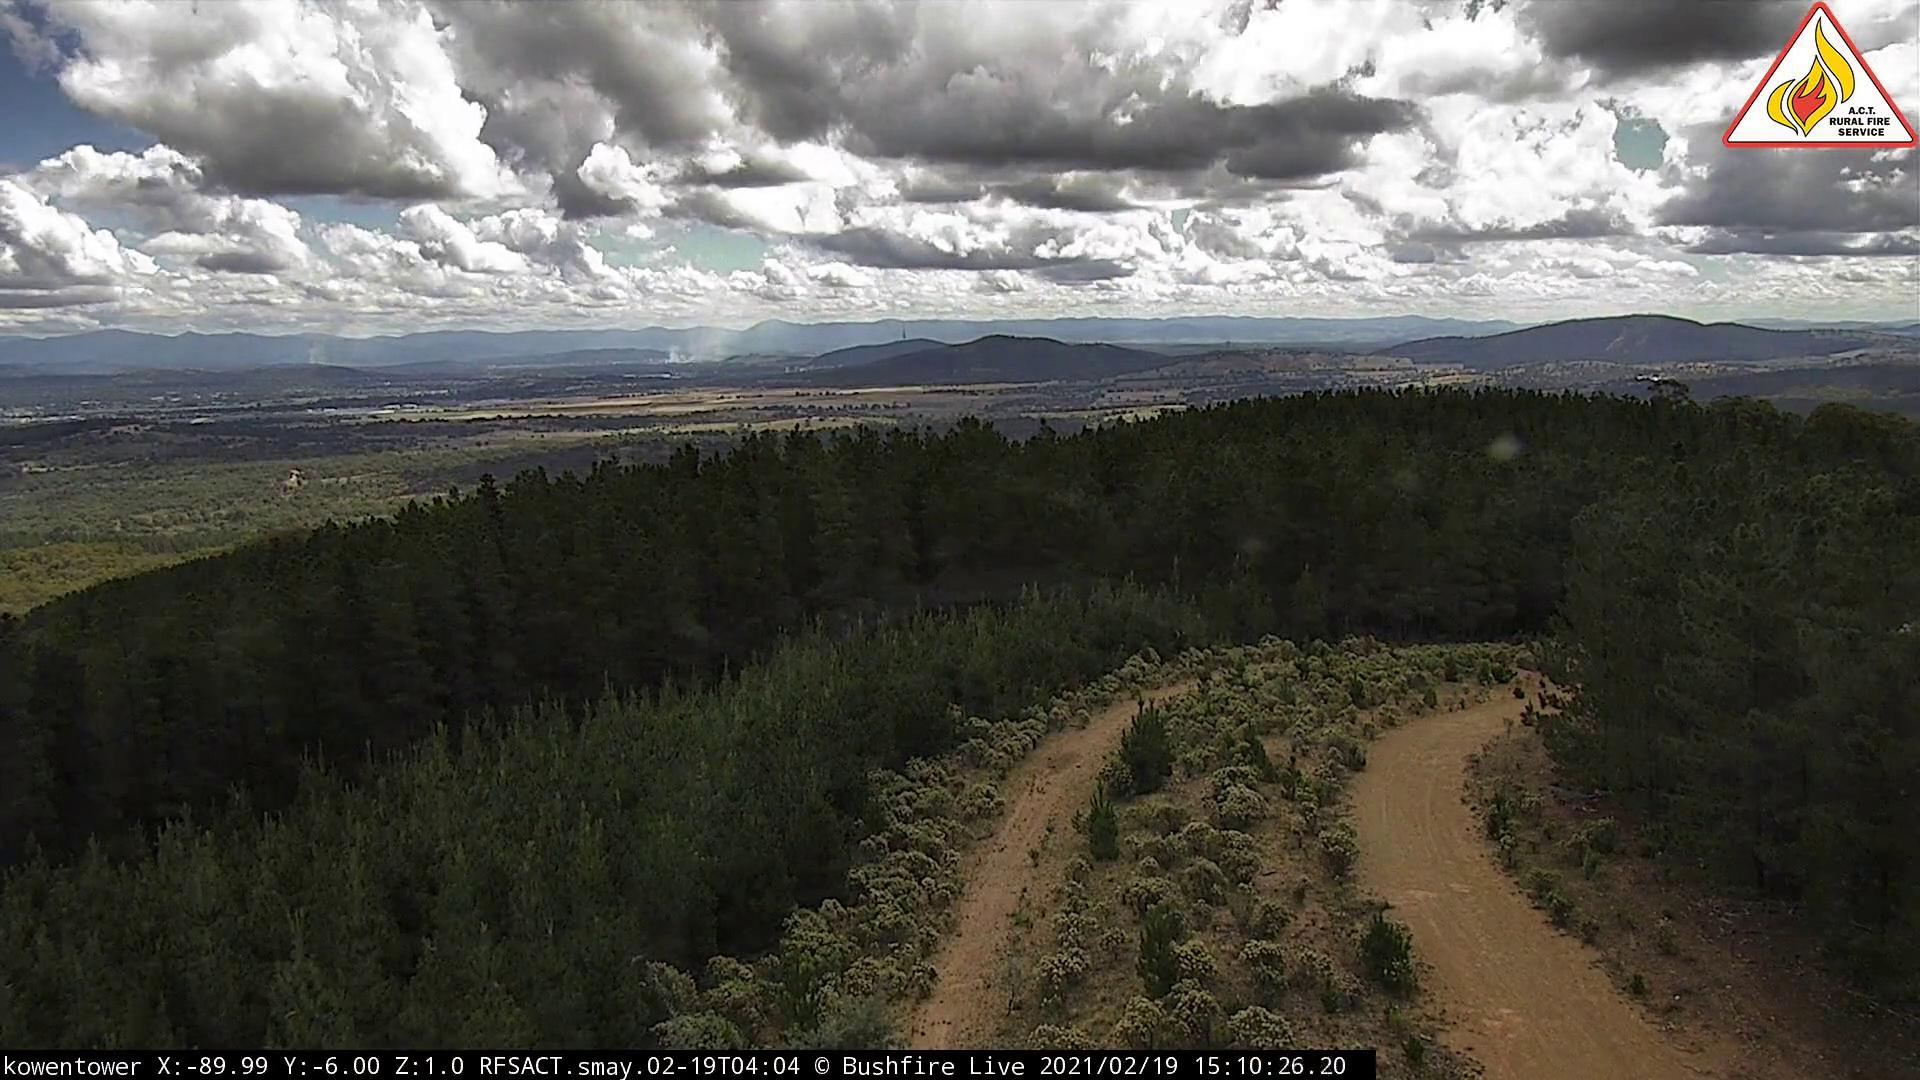Smoke: (301, 309, 382, 376), (665, 309, 750, 368)
